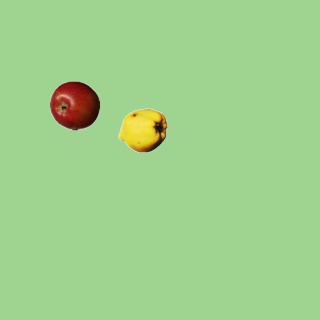Apple Braeburn: (49, 80, 99, 130)
Quince: (117, 105, 167, 155)
